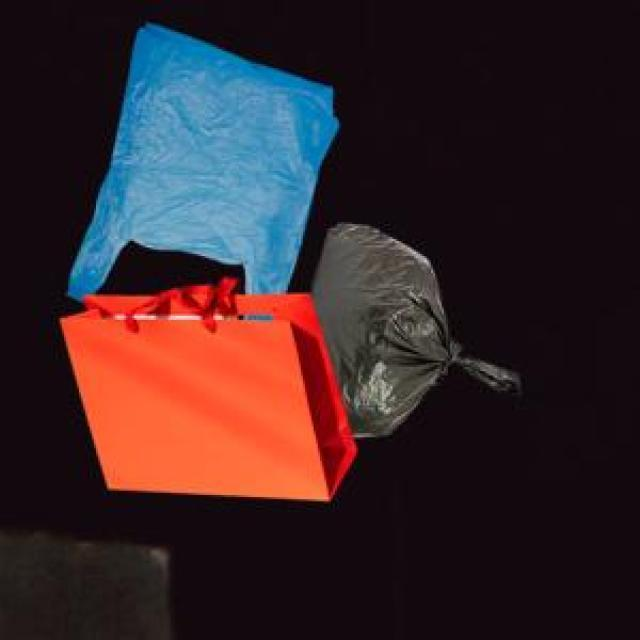miscellaneous trash: (303, 220, 516, 433)
paper: (56, 273, 352, 497)
